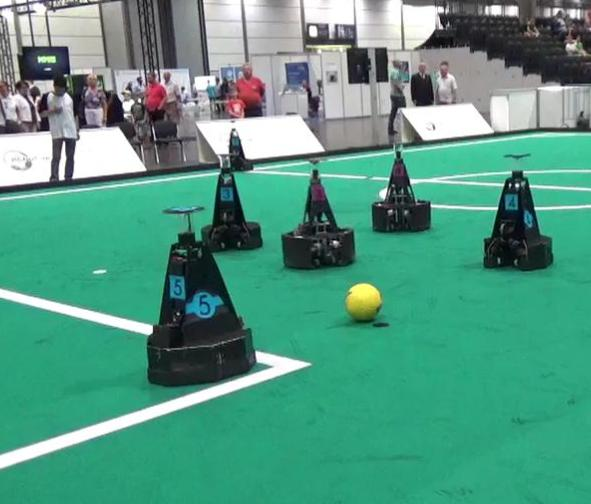robot: (138, 201, 261, 388), (479, 148, 557, 274), (276, 157, 356, 270), (193, 150, 268, 251), (367, 138, 433, 234)
